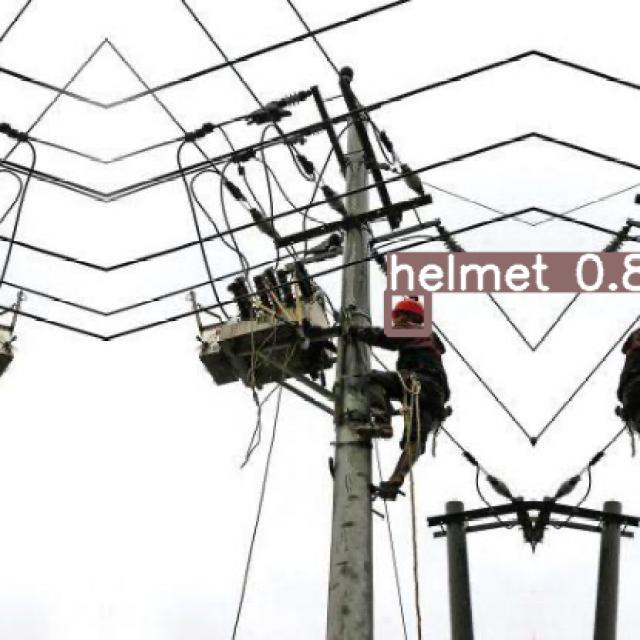Helmet: (390, 297, 424, 328)
